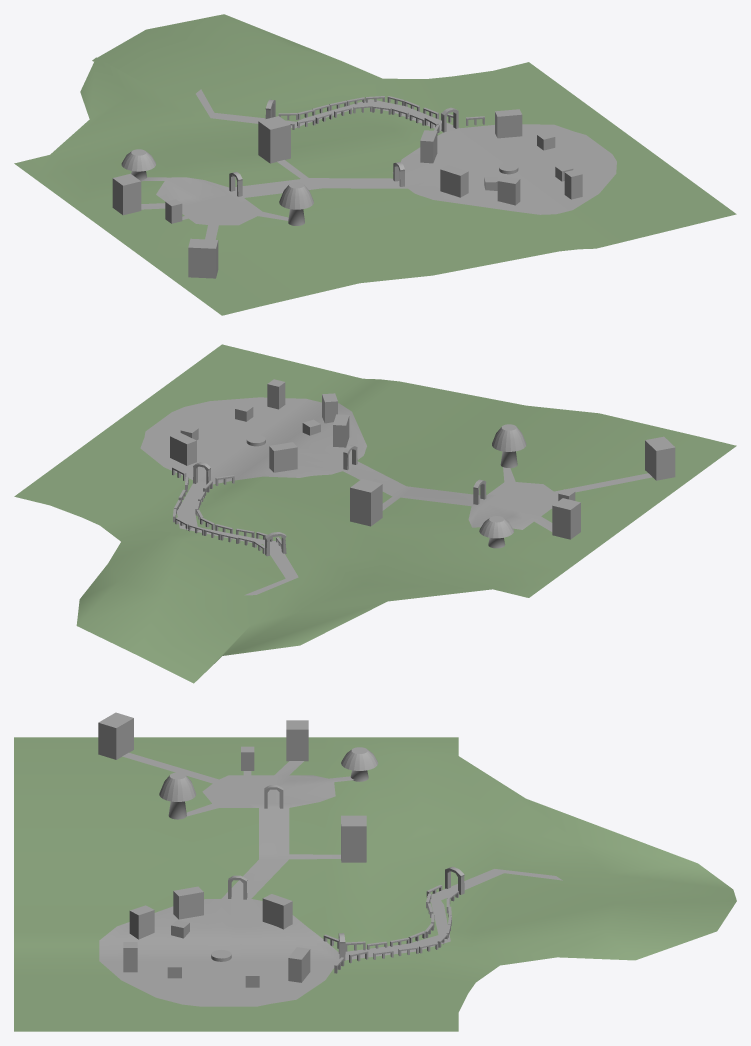
File: level1_Greybox.fbx
The picture shows the model from 3 angles, top to bottom: view 1: azimuth 30°, elevation 25°; view 2: azimuth 150°, elevation 25°; view 3: azimuth 270°, elevation 25°; orthographic projection. The views are drawn at different scales.
Parts seen in each view (by area): view 1: ground, paths, house2, theirhouse, house1, house3, store2, store3, hpuse, store1, stopre, store; view 2: ground, paths, house2, theirhouse, house1, house3, stopre, hpuse, store3; view 3: ground, paths, theirhouse, house2, house3, house1, store2, stopre, hpuse, store1, store3.
Part boxes in pixels (x1=…): ground: x1=14, y1=14, x2=736, y2=315; paths: x1=141, y1=89, x2=616, y2=239; house2: x1=258, y1=116, x2=290, y2=163; theirhouse: x1=188, y1=238, x2=218, y2=278; house1: x1=112, y1=173, x2=141, y2=215; house3: x1=279, y1=182, x2=313, y2=225; store2: x1=440, y1=165, x2=468, y2=197; store3: x1=495, y1=109, x2=522, y2=138; hpuse: x1=121, y1=149, x2=155, y2=181; store1: x1=497, y1=176, x2=520, y2=205; stopre: x1=420, y1=130, x2=437, y2=163; store: x1=564, y1=169, x2=582, y2=199; ground: x1=14, y1=344, x2=736, y2=683; paths: x1=140, y1=397, x2=652, y2=595; house2: x1=350, y1=479, x2=382, y2=526; theirhouse: x1=645, y1=436, x2=675, y2=480; house1: x1=552, y1=498, x2=580, y2=539; house3: x1=492, y1=424, x2=526, y2=468; stopre: x1=269, y1=442, x2=297, y2=472; hpuse: x1=479, y1=516, x2=513, y2=548; store3: x1=170, y1=432, x2=196, y2=465; ground: x1=14, y1=737, x2=736, y2=1031; paths: x1=99, y1=752, x2=562, y2=1006; theirhouse: x1=98, y1=712, x2=133, y2=759; house2: x1=341, y1=815, x2=366, y2=862; house3: x1=159, y1=772, x2=196, y2=819; house1: x1=286, y1=720, x2=308, y2=761; store2: x1=173, y1=886, x2=203, y2=919; stopre: x1=262, y1=894, x2=292, y2=929; hpuse: x1=341, y1=747, x2=378, y2=781; store1: x1=129, y1=905, x2=154, y2=939; store3: x1=288, y1=947, x2=310, y2=982.
Size of the model in its own units: 119 by 17.51 by 135.
